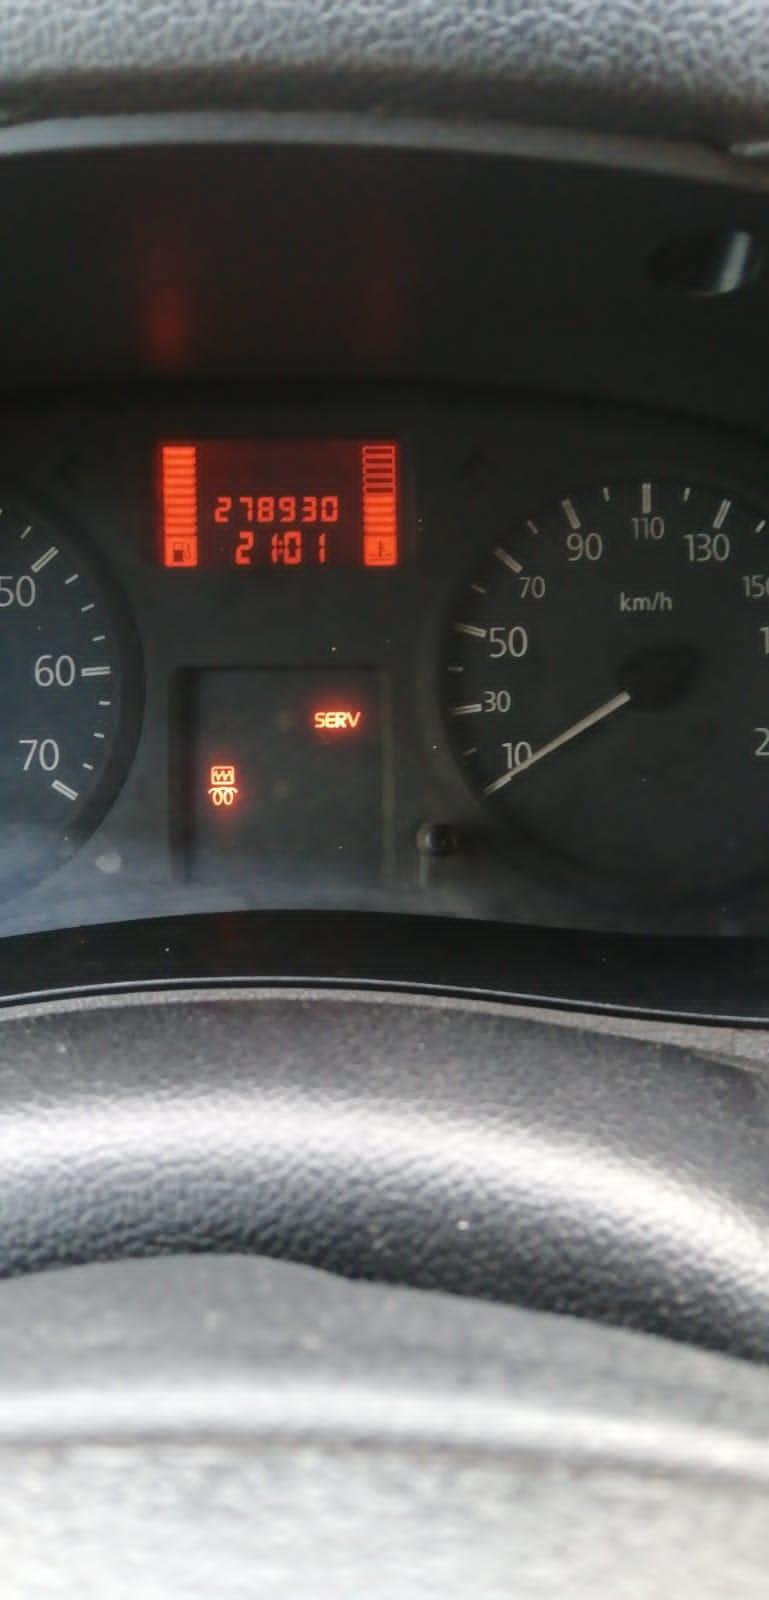0: (281, 530, 302, 565), (320, 495, 339, 522)
1: (318, 531, 326, 564), (270, 533, 278, 564)
2: (234, 530, 254, 565), (213, 495, 232, 523)
3: (300, 495, 317, 522)
7: (238, 496, 254, 522)
8: (256, 496, 274, 522)
9: (277, 496, 295, 522)
X: (278, 539, 283, 554)
odometer: (148, 431, 405, 573)
